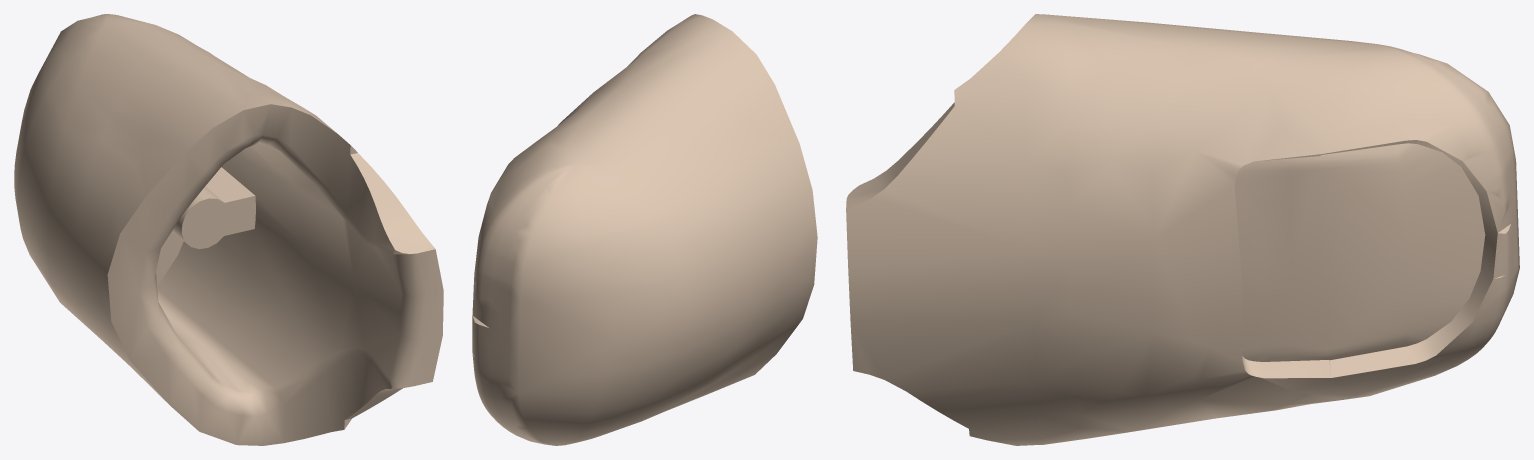
The model's file is l_hand_D_1.obj.
The picture shows the model from 3 angles, left to right: view 1: azimuth 30°, elevation 25°; view 2: azimuth 150°, elevation 25°; view 3: azimuth 270°, elevation 25°; orthographic projection. The views are drawn at different scales.
Size of the model in its own units: 14.61 by 20.58 by 30.27.
